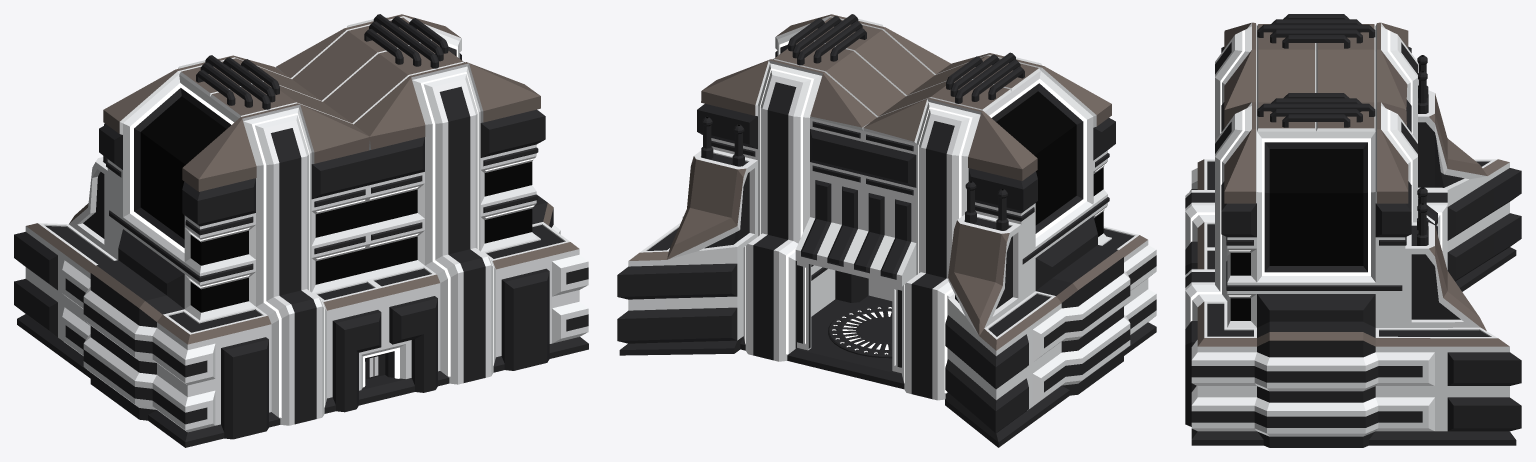
Rendered from vehicle-assembly.glb.
The picture shows the model from 3 angles, left to right: view 1: azimuth 30°, elevation 25°; view 2: azimuth 150°, elevation 25°; view 3: azimuth 270°, elevation 25°; orthographic projection. The views are drawn at different scales.
Visible parts, largest first — view 1: MediumVehicleAssembly_Body, MediumVehicleAssembly_Parts, MediumVehicleAssembly_Foundation; view 2: MediumVehicleAssembly_Body, MediumVehicleAssembly_Foundation, MediumVehicleAssembly_Parts, MediumVehicleAssembly_MediumShow, MediumVehicleAssembly_Gate.R, MediumVehicleAssembly_Gate.L; view 3: MediumVehicleAssembly_Body, MediumVehicleAssembly_Parts, MediumVehicleAssembly_Foundation.
Part boxes in pixels (<box>): MediumVehicleAssembly_Body: <box>14,14,588,439</box>; MediumVehicleAssembly_Parts: <box>103,14,448,163</box>; MediumVehicleAssembly_Foundation: <box>17,314,588,447</box>; MediumVehicleAssembly_Body: <box>617,14,1156,433</box>; MediumVehicleAssembly_Foundation: <box>619,295,1156,447</box>; MediumVehicleAssembly_Parts: <box>701,14,1024,230</box>; MediumVehicleAssembly_MediumShow: <box>828,305,892,358</box>; MediumVehicleAssembly_Gate.R: <box>797,261,811,350</box>; MediumVehicleAssembly_Gate.L: <box>892,284,901,373</box>; MediumVehicleAssembly_Body: <box>1185,22,1521,447</box>; MediumVehicleAssembly_Parts: <box>1257,14,1428,245</box>; MediumVehicleAssembly_Foundation: <box>1191,247,1516,445</box>.
Size of the model in its own units: 3793 by 2525 by 2694.
Materials: 1 (1 with a texture image).
